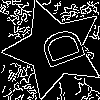D: (29, 24, 87, 75)
